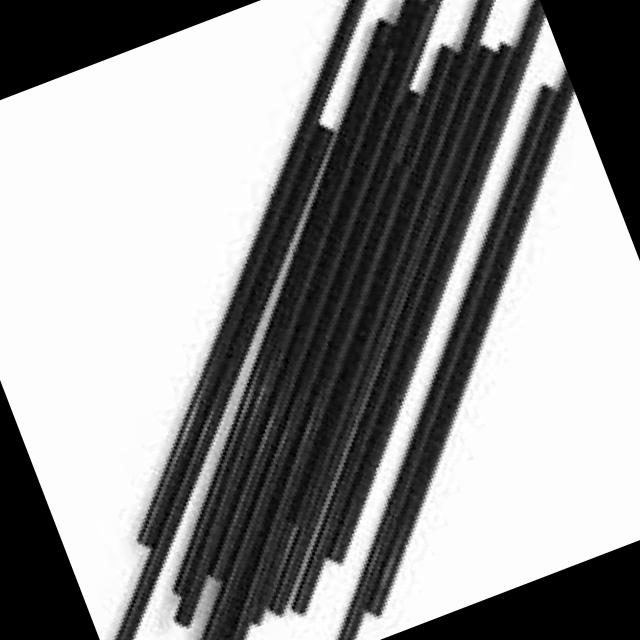plastic: (172, 98, 640, 640)
